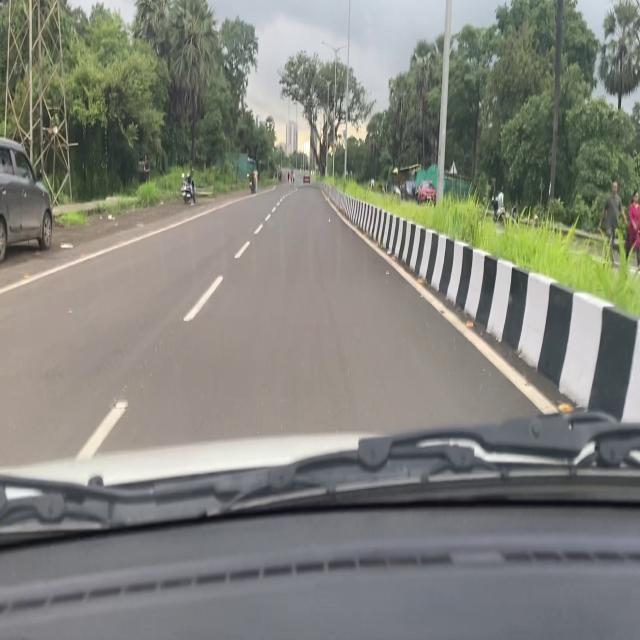lane: (67, 191, 286, 472), (301, 187, 561, 417), (1, 195, 244, 301)
